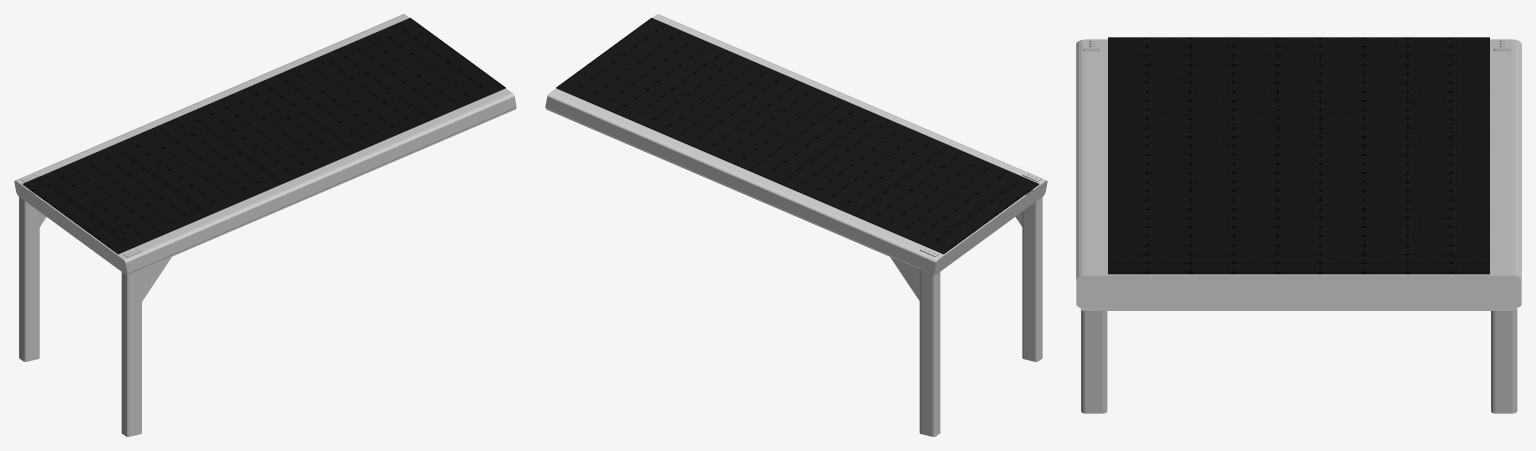
File: Cap_0.glb
The picture shows the model from 3 angles, left to right: view 1: azimuth 30°, elevation 25°; view 2: azimuth 150°, elevation 25°; view 3: azimuth 270°, elevation 25°; orthographic projection. The views are drawn at different scales.
Visible parts, largest first — view 1: glass, solar shell, P2, P1, bottom, S2; view 2: glass, solar shell, P1, P2, bottom, S1; view 3: glass, solar shell, P1, P2, bottom.
Boxes of the visible parts, x1,y1,x2,y2 form: glass: (22,17,505,254); solar shell: (14,14,516,274); P2: (121,270,141,436); P1: (19,188,39,361); bottom: (18,108,515,275); S2: (142,257,171,301); glass: (556,17,1039,254); solar shell: (545,14,1047,274); P1: (919,269,940,436); P2: (1022,188,1042,361); bottom: (546,108,1043,275); S1: (890,257,919,300); glass: (1108,37,1489,274); solar shell: (1076,39,1521,308); P1: (1491,311,1517,413); P2: (1081,311,1107,413); bottom: (1080,308,1517,310).
Bounding box in the file's own units: 22.53 × 13.78 × 11.1.
Materials: 2 (1 with a texture image).
